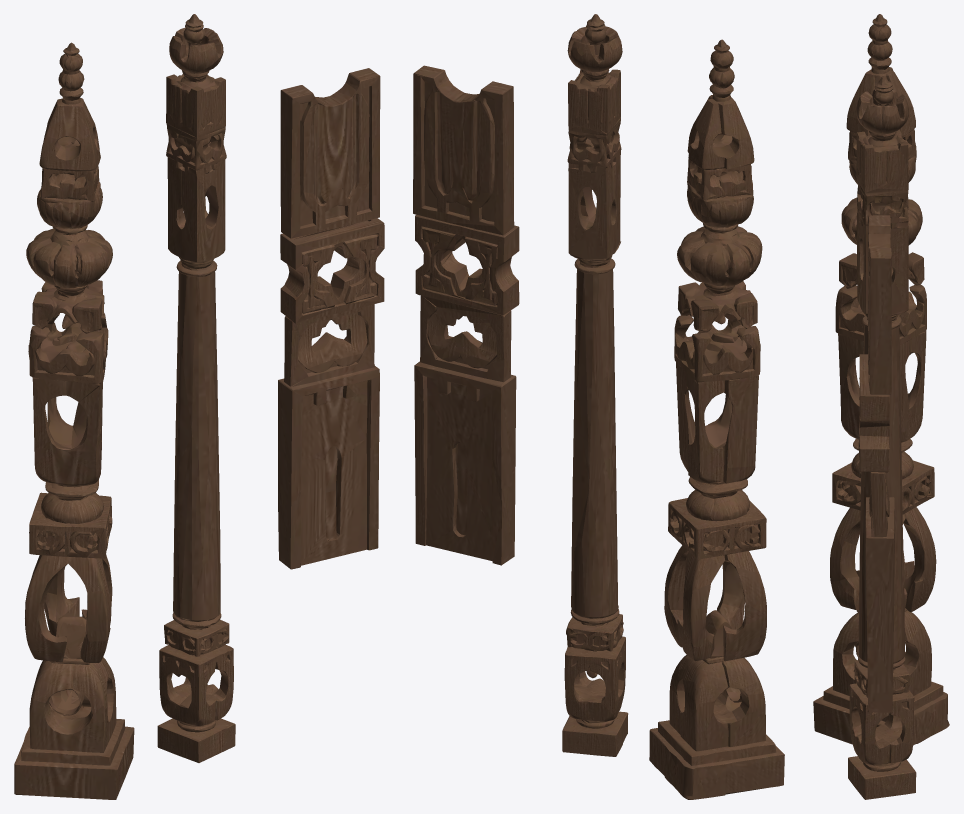
File: aloalo.glb
3 renders of one model, left to right at view 1: azimuth 30°, elevation 25°; view 2: azimuth 150°, elevation 25°; view 3: azimuth 270°, elevation 25°, orthographic. The views are drawn at different scales.
Bounding box in the file's own units: 0.9852 × 1.9 × 0.33.
1 material, 1 textured.
